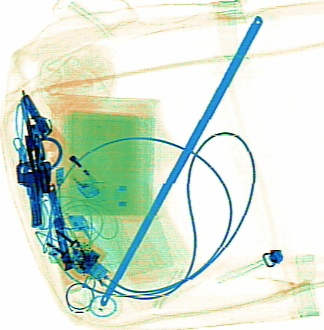lighter: (36, 123, 103, 198)
